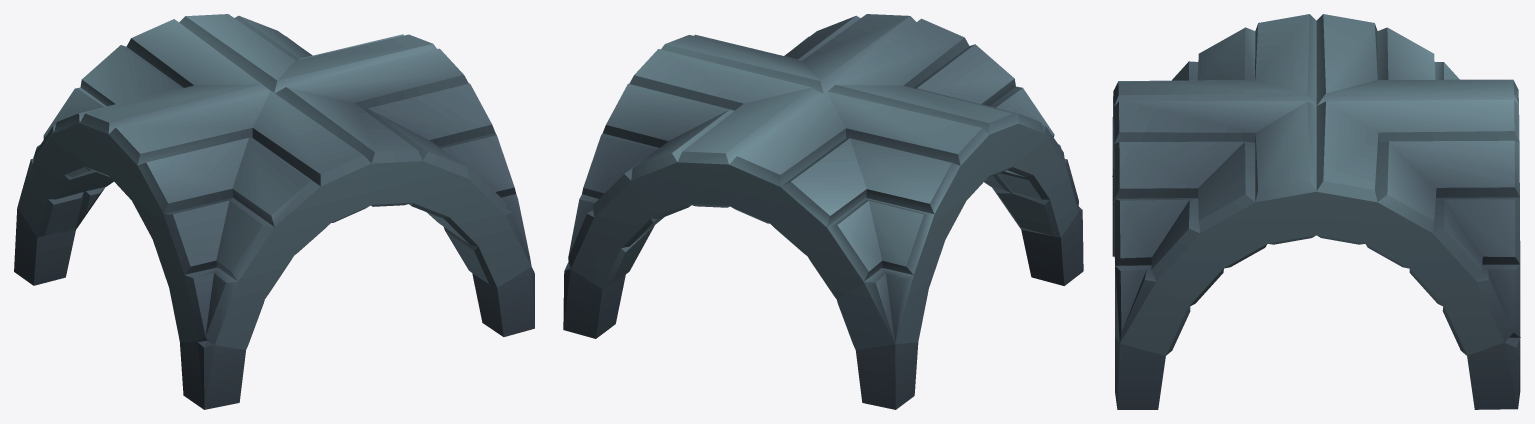
The model's file is Modular_Dungeon_Ceiling_Arched_4Way.fbx.
3 renders of one model, left to right at view 1: azimuth 30°, elevation 25°; view 2: azimuth 150°, elevation 25°; view 3: azimuth 270°, elevation 25°, orthographic. The views are drawn at different scales.
Visible parts, largest first — view 1: Ceiling_Arched_4Way; view 2: Ceiling_Arched_4Way; view 3: Ceiling_Arched_4Way.
Part boxes in pixels (x1,y1,x2,y2): Ceiling_Arched_4Way: (14, 14, 534, 409); Ceiling_Arched_4Way: (563, 14, 1083, 409); Ceiling_Arched_4Way: (1112, 14, 1520, 409).
Bounding box in the file's own units: 6.64 × 4.07 × 6.63.
1 material, 1 textured.
